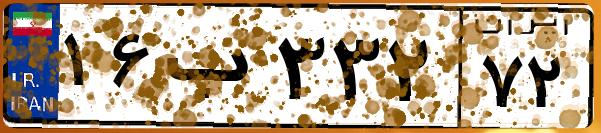1: (57, 26, 110, 100)
2: (385, 28, 445, 110), (525, 38, 570, 115)
3: (270, 28, 330, 110), (330, 28, 385, 110)
6: (110, 28, 158, 98)
7: (475, 38, 525, 113)
ب: (158, 20, 270, 120)
